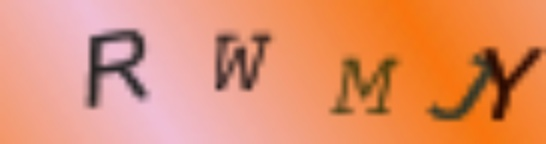J: (427, 54, 491, 128)
M: (329, 55, 403, 118)
R: (80, 24, 151, 112)
W: (209, 28, 275, 96)
Y: (487, 43, 543, 123)
